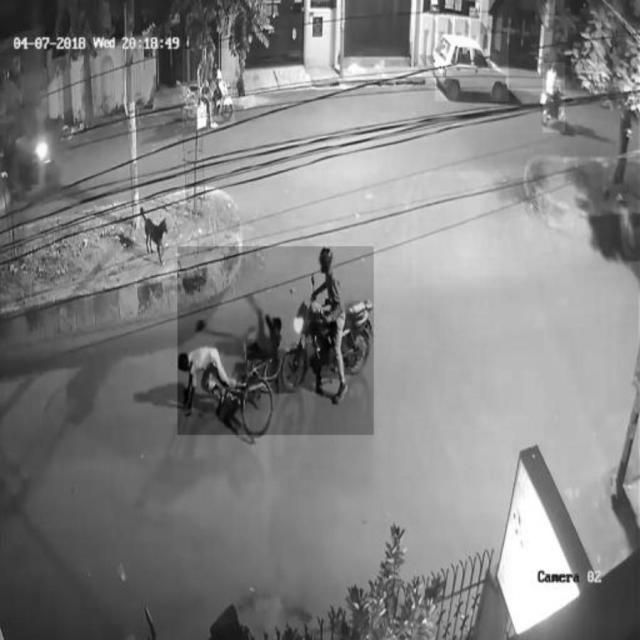accident: (178, 246, 374, 434)
vehicle: (436, 34, 509, 101), (183, 49, 235, 126), (542, 63, 566, 133)
